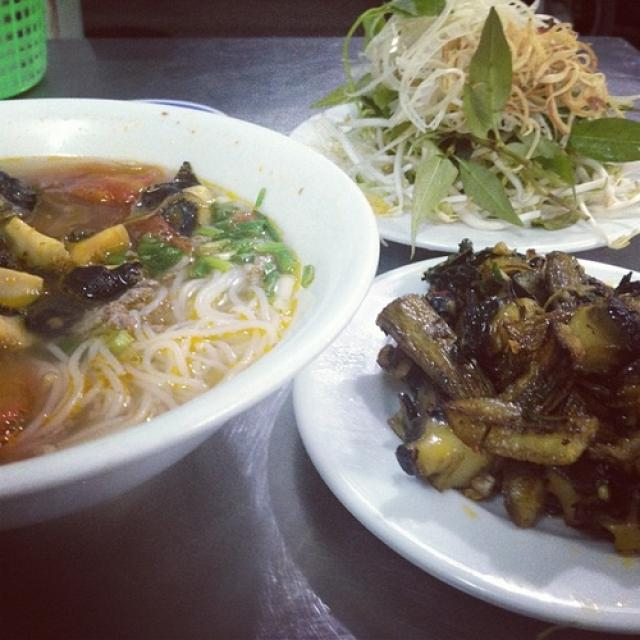面条主食: (12, 5, 631, 626)
